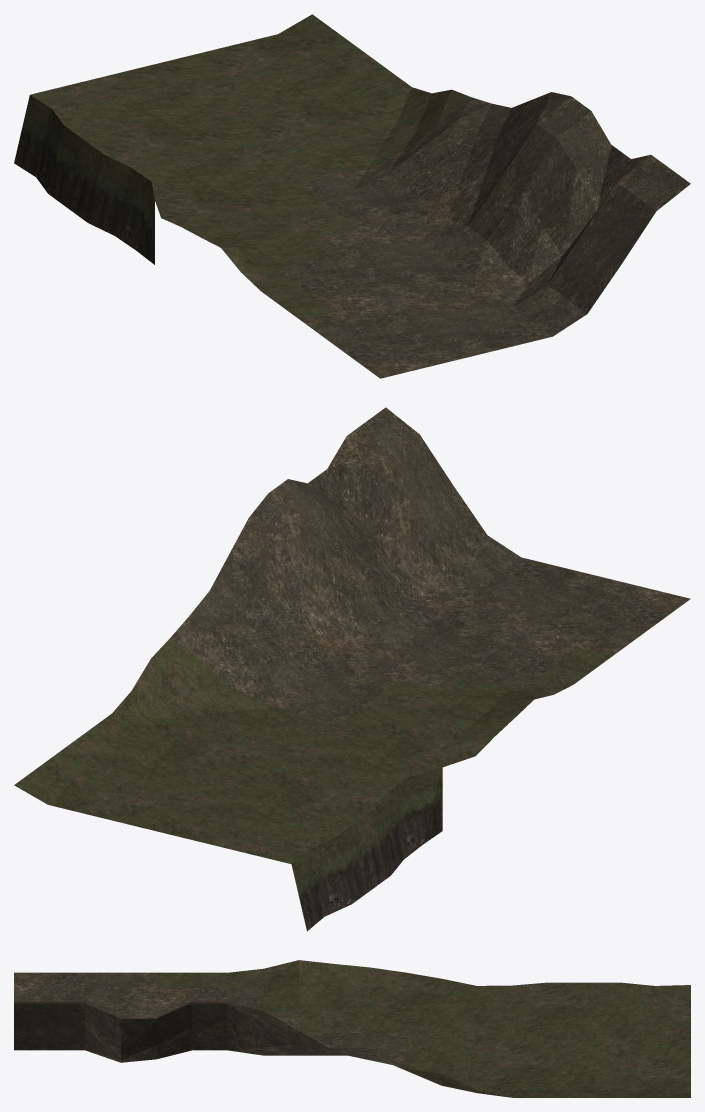
The model's file is terrain_base05.fbx.
3 views of the same model, one above another, from view 1: azimuth 30°, elevation 25°; view 2: azimuth 150°, elevation 25°; view 3: azimuth 270°, elevation 25° (orthographic). The views are drawn at different scales.
Visible parts, largest first — view 1: obj2.011; view 2: obj2.011; view 3: obj2.011.
Part boxes in pixels (x1=…): obj2.011: x1=14, y1=14, x2=690, y2=378; obj2.011: x1=14, y1=407, x2=690, y2=931; obj2.011: x1=14, y1=960, x2=690, y2=1097.
Bounding box in the file's own units: 22.5 × 12.72 × 47.5.
